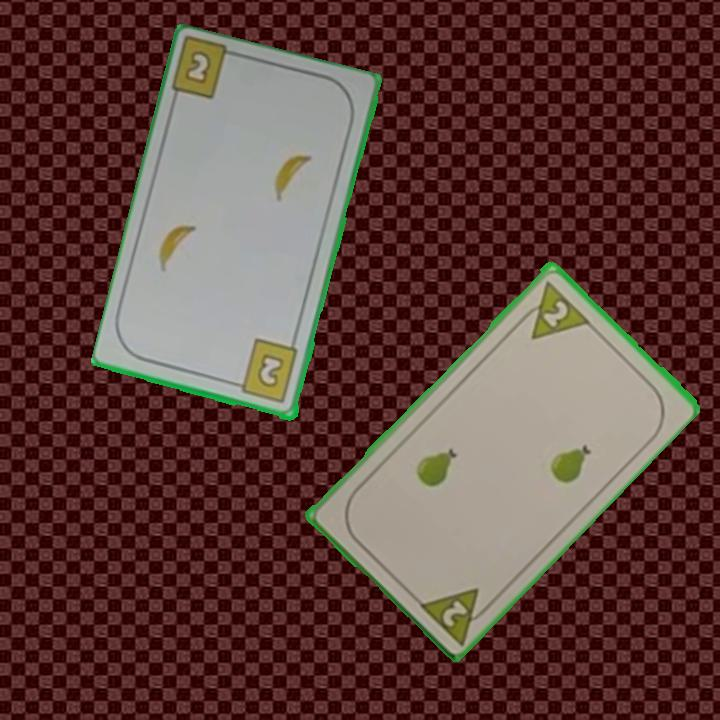2b: (229, 336, 301, 406), (181, 47, 215, 88)
2p: (414, 583, 497, 647), (513, 276, 592, 343)
